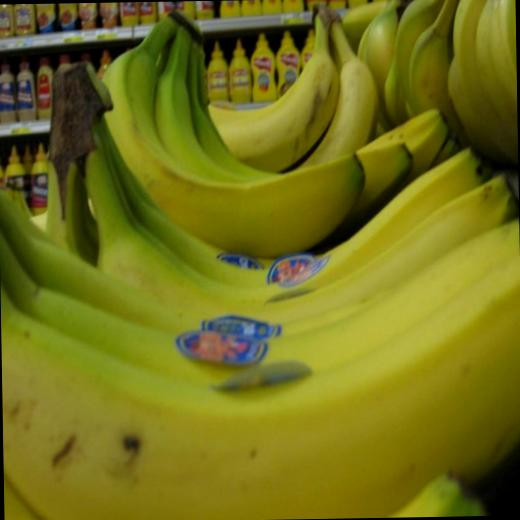Banana: (0, 0, 520, 520), (175, 26, 346, 163)
